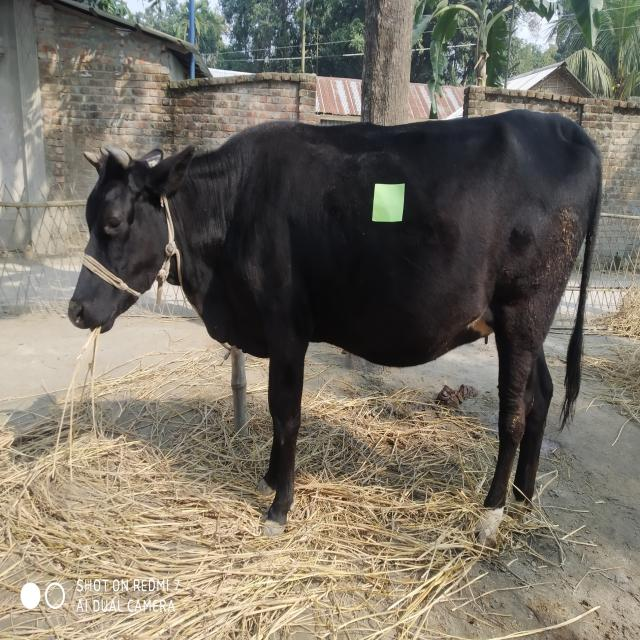badan_sapi: (274, 120, 579, 356)
sapi: (67, 109, 608, 552)
